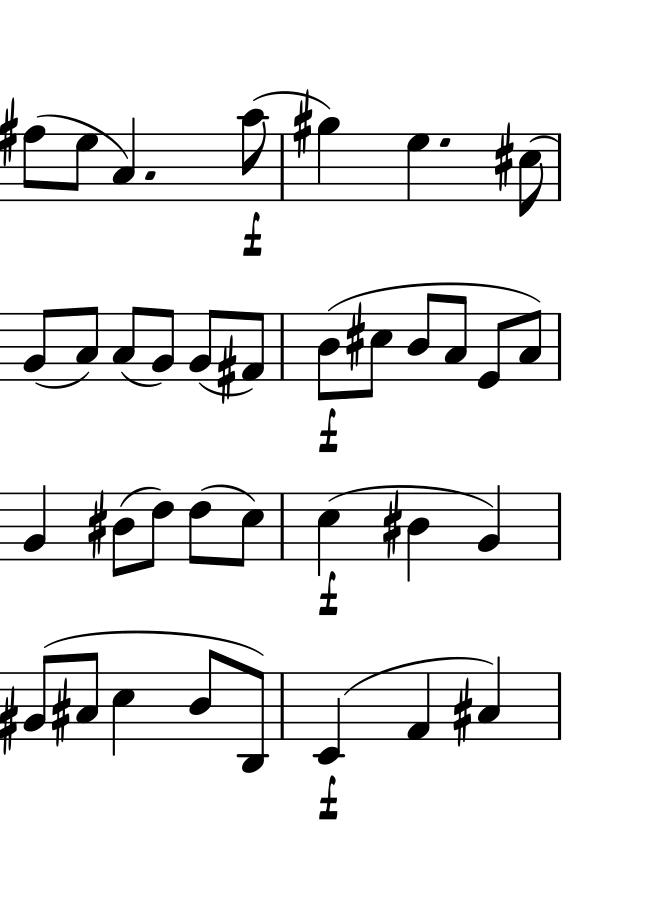4_-2: (313, 672, 342, 766)
4_2: (477, 484, 505, 562), (22, 483, 49, 561)
4_3: (111, 118, 136, 203), (477, 661, 502, 740)
4_4: (406, 491, 431, 583)
4_5: (110, 672, 137, 756), (315, 494, 342, 576)
4_7: (405, 132, 430, 201)
4_9: (315, 114, 339, 202)
8_-3: (239, 667, 269, 774)
8_0: (477, 313, 507, 393)
8_1: (405, 671, 432, 743), (240, 310, 266, 384)
8_10: (241, 107, 269, 204)
8_2: (22, 654, 52, 741), (22, 308, 55, 381), (188, 308, 219, 380), (151, 307, 175, 381)
8_3: (112, 304, 142, 380), (74, 652, 99, 740), (443, 296, 468, 383), (74, 304, 99, 381), (518, 309, 543, 382)
8_4: (188, 648, 219, 742), (407, 292, 438, 382), (316, 312, 340, 405), (111, 491, 135, 579)
8_5: (362, 312, 392, 399), (233, 491, 264, 569), (517, 133, 542, 218)
8_6: (143, 492, 175, 571), (187, 490, 211, 567)
8_7: (66, 131, 99, 201)
8_8: (21, 124, 45, 203)
Natural: (1, 691, 18, 757)
Sharp: (380, 490, 403, 560), (451, 680, 473, 748), (86, 495, 108, 560), (344, 307, 365, 370), (493, 131, 514, 193), (292, 96, 312, 158), (50, 687, 70, 749), (217, 340, 236, 401)
Single_barline: (275, 128, 289, 200), (552, 493, 567, 560), (275, 315, 290, 381), (553, 135, 568, 200), (552, 673, 567, 738), (552, 314, 566, 380), (274, 674, 288, 738), (275, 493, 288, 558)
Slur: (43, 629, 266, 657), (343, 655, 494, 694), (327, 282, 540, 309), (37, 111, 129, 161), (326, 485, 491, 507), (254, 90, 330, 110), (35, 371, 87, 391), (201, 483, 255, 502), (197, 381, 251, 398), (122, 370, 162, 388), (121, 486, 156, 506), (530, 135, 558, 145)
dot: (437, 135, 452, 151), (141, 168, 157, 182)
f: (241, 212, 263, 258), (317, 776, 338, 823), (317, 408, 338, 454), (318, 573, 339, 617)
